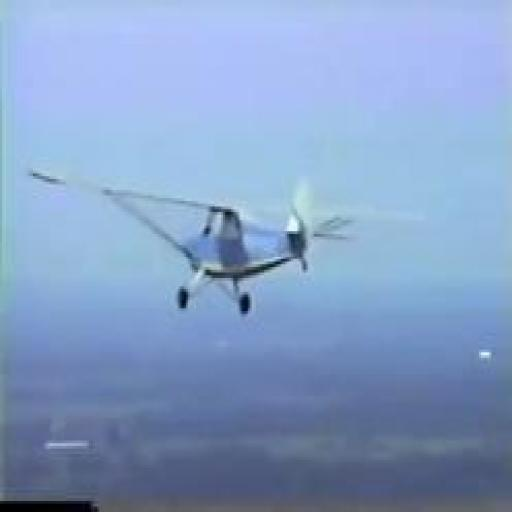aircraft: (25, 162, 359, 316)
